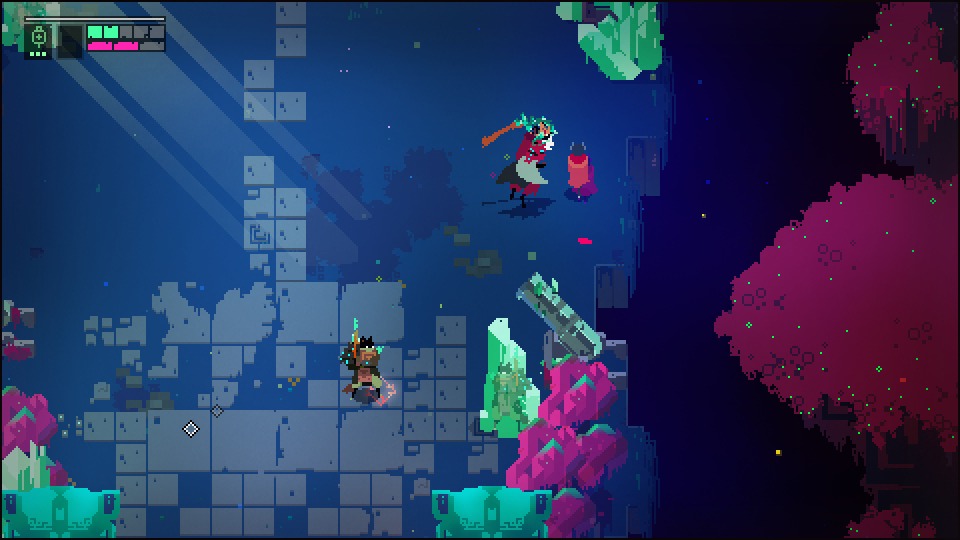hanged_man: (511, 110, 556, 204)
player: (564, 142, 590, 196)
